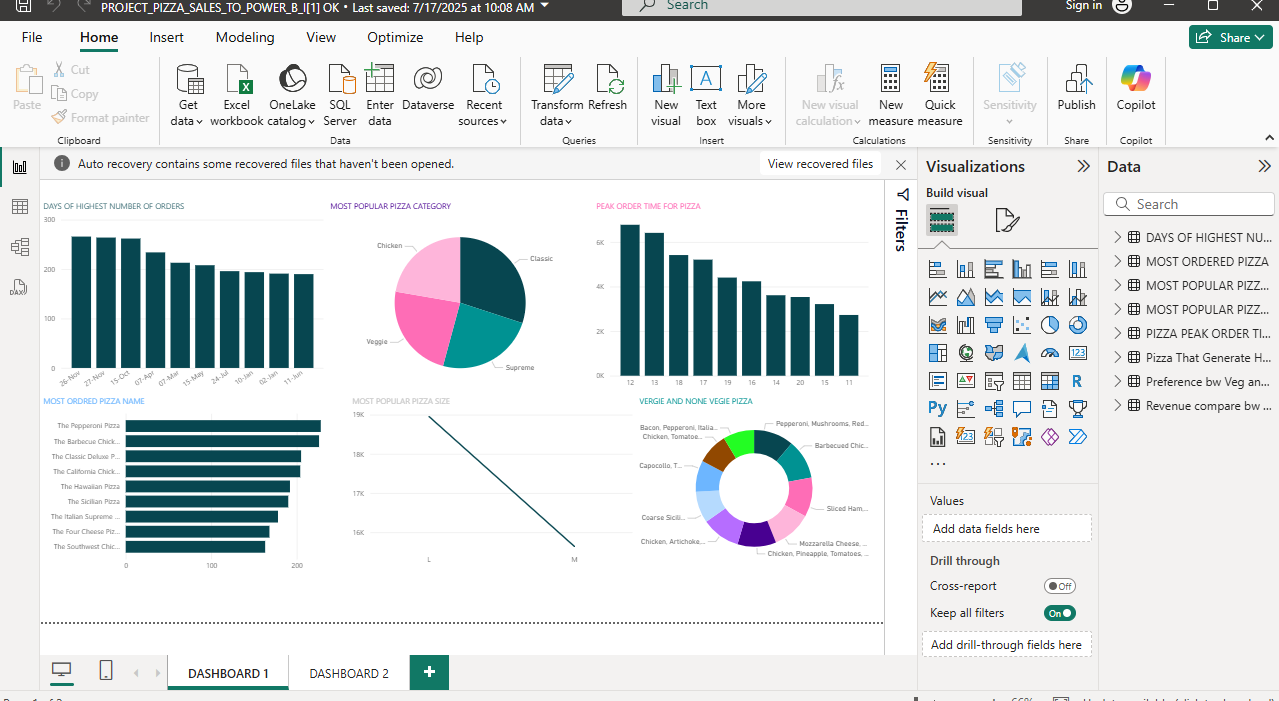

This screenshot's page, from the dashboard's own definition file:
{"tool":"powerbi","page":{"name":"DASHBOARD 1","canvas":[1280,720],"ordinal":0},"visuals":[{"type":"clusteredColumnChart","title":"DAYS OF HIGHEST NUMBER OF ORDERS","fields":{"Category":["DAYS OF HIGHEST NUMBER OF ORDER.DAYS"],"Y":["Sum(DAYS OF HIGHEST NUMBER OF ORDER.Sum of quantity)"]},"box":[0,80.4,435.3,295.7],"z":0},{"type":"clusteredBarChart","title":"MOST ORDRED PIZZA NAME","fields":{"Category":["MOST ORDERED PIZZA.PIZZA NAME"],"Y":["Sum(MOST ORDERED PIZZA.Sum of quantity)"]},"box":[0,376.1,468.4,276.7],"z":1000},{"type":"pieChart","title":"MOST POPULAR PIZZA CATEGORY","fields":{"Category":["MOST POPULAR PIZZA CATEGORIES.Row Labels"],"Y":["Sum(MOST POPULAR PIZZA CATEGORIES.Sum of quantity)"]},"box":[435.2,80.6,403.9,295.5],"z":2000},{"type":"lineChart","title":"MOST POPULAR PIZZA SIZE","fields":{"Category":["MOST POPULAR PIZZA SIEZE.Row Labels"],"Y":["Sum(MOST POPULAR PIZZA SIEZE.Sum of quantity)"]},"box":[468.4,376.1,435.2,266.9],"z":3000},{"type":"clusteredColumnChart","title":"PEAK ORDER TIME FOR PIZZA","fields":{"Category":["PIZZA PEAK ORDER TIME.Row Labels"],"Y":["Sum(PIZZA PEAK ORDER TIME.Sum of quantity)"]},"box":[839.1,80.6,422.7,295.5],"z":4000},{"type":"donutChart","title":" VERGIE AND NONE VEGIE PIZZA","fields":{"Category":["Preference bw Veg and none Vege.VERGIE AND NONE VEGIE PIZZA"],"Y":["Sum(Preference bw Veg and none Vege.Sum of quantity)"]},"box":[903.6,376.1,358.2,266.9],"z":5000},{"type":"textbox","box":[234.6,0,633.1,80.6],"z":6000}]}

Visuals, with their boxes on the page's 1280x720 design canvas (x1, y1, x2, y2). These are canvas units, not pixel positions in the 1279x701 screenshot, which may show the page scaled, cropped or inside an application window:
"DAYS OF HIGHEST NUMBER OF ORDERS" clusteredColumnChart: x1=0 y1=80 x2=435 y2=376
"MOST ORDRED PIZZA NAME" clusteredBarChart: x1=0 y1=376 x2=468 y2=653
"MOST POPULAR PIZZA CATEGORY" pieChart: x1=435 y1=81 x2=839 y2=376
"MOST POPULAR PIZZA SIZE" lineChart: x1=468 y1=376 x2=904 y2=643
"PEAK ORDER TIME FOR PIZZA" clusteredColumnChart: x1=839 y1=81 x2=1262 y2=376
" VERGIE AND NONE VEGIE PIZZA" donutChart: x1=904 y1=376 x2=1262 y2=643
textbox: x1=235 y1=0 x2=868 y2=81
